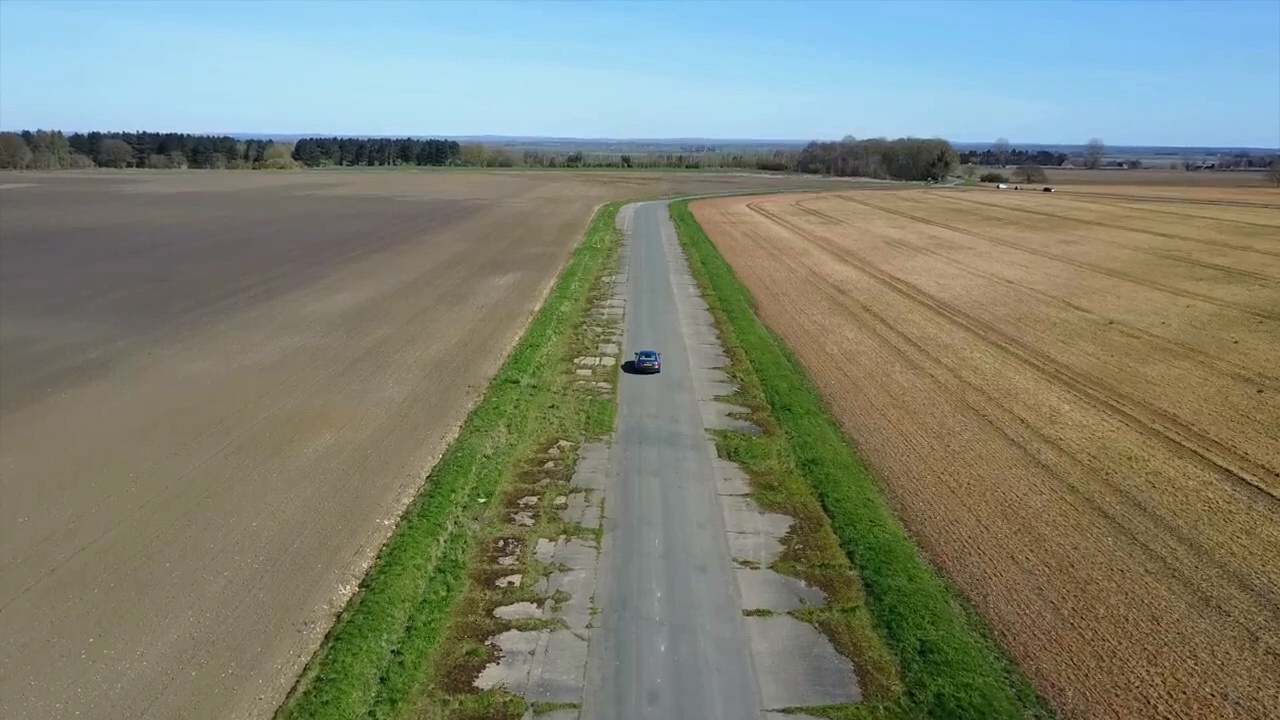araba: (630, 349, 662, 376)
